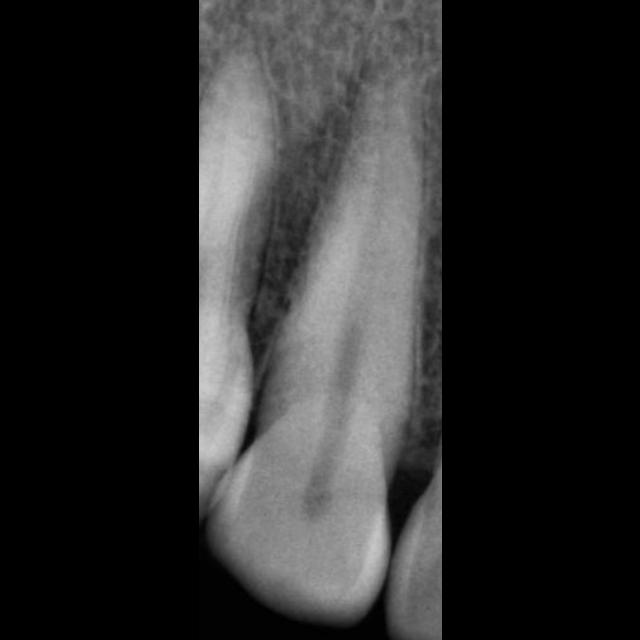tooth: (203, 21, 426, 626)
